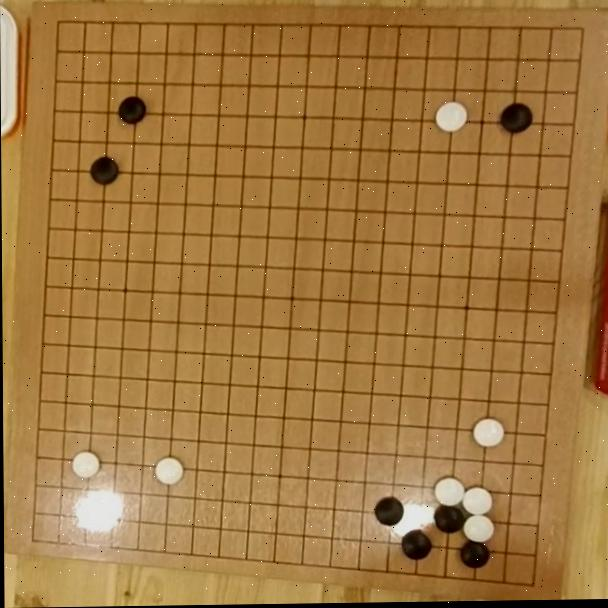corners: (16, 522, 52, 561), (44, 7, 80, 43), (516, 565, 547, 602), (561, 22, 602, 47)
